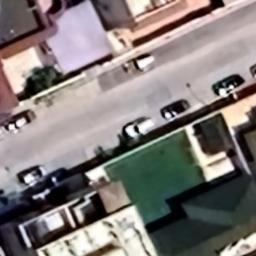SUV: (210, 72, 244, 97), (121, 114, 155, 138), (124, 54, 156, 74)
sedan: (160, 98, 192, 124), (3, 112, 38, 132)
